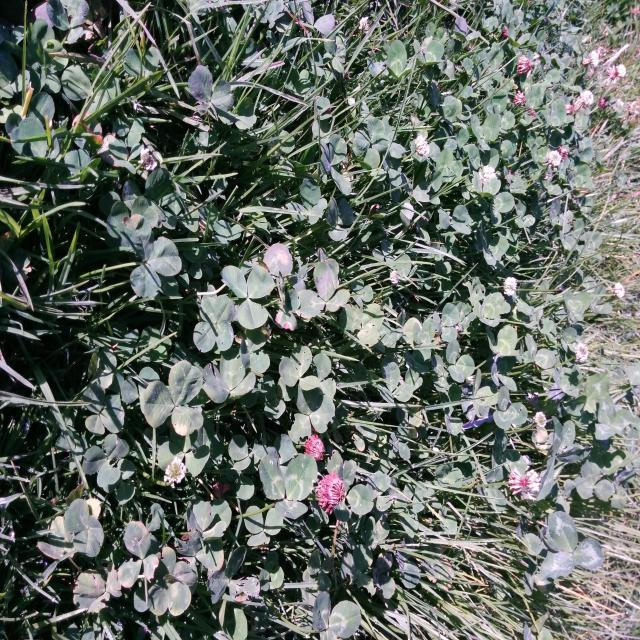Four Leaf Clover: (193, 295, 235, 352)
